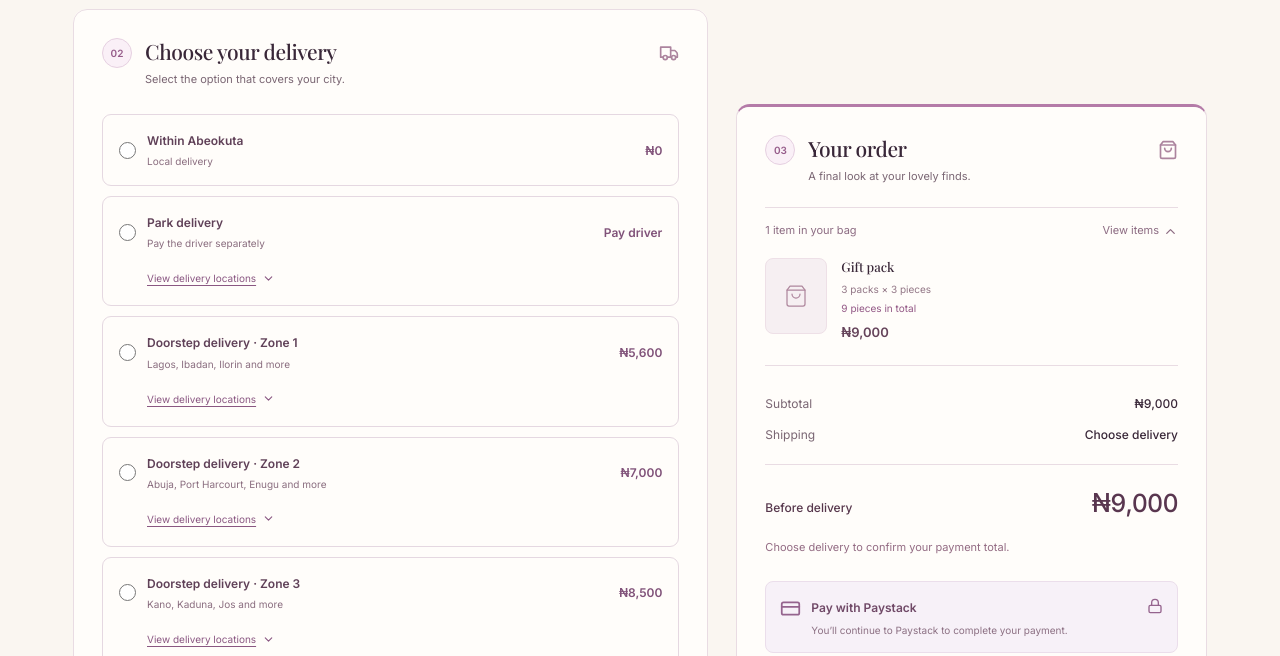
gift price is disclosed before opting in, added once and removed when deselected
(page scrolled)
Click the radio button labelled "Doorstep delivery · Zone 1".
click(128, 353)  # box [119,344,136,361]
(page scrolled)
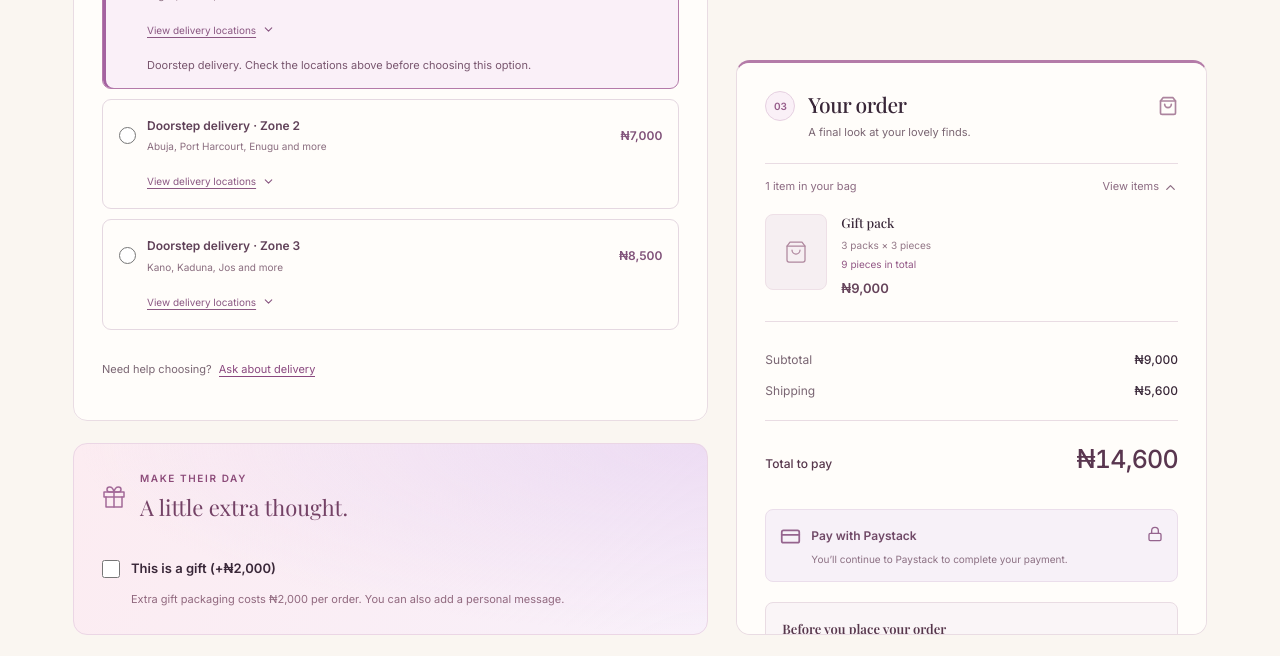
Click the checkbox labelled "This is a gift (+₦2,000)".
click(111, 569)  # box [102,560,120,578]
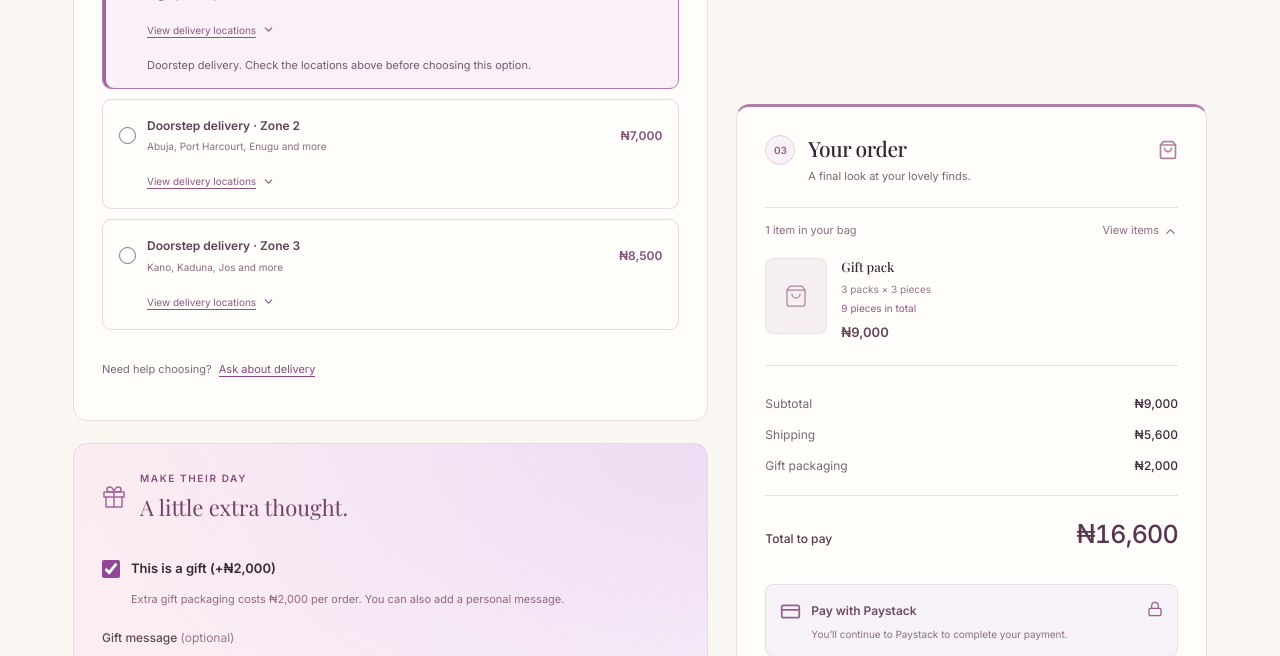
Click the checkbox labelled "This is a gift (+₦2,000)".
click(111, 569)  # box [102,560,120,578]
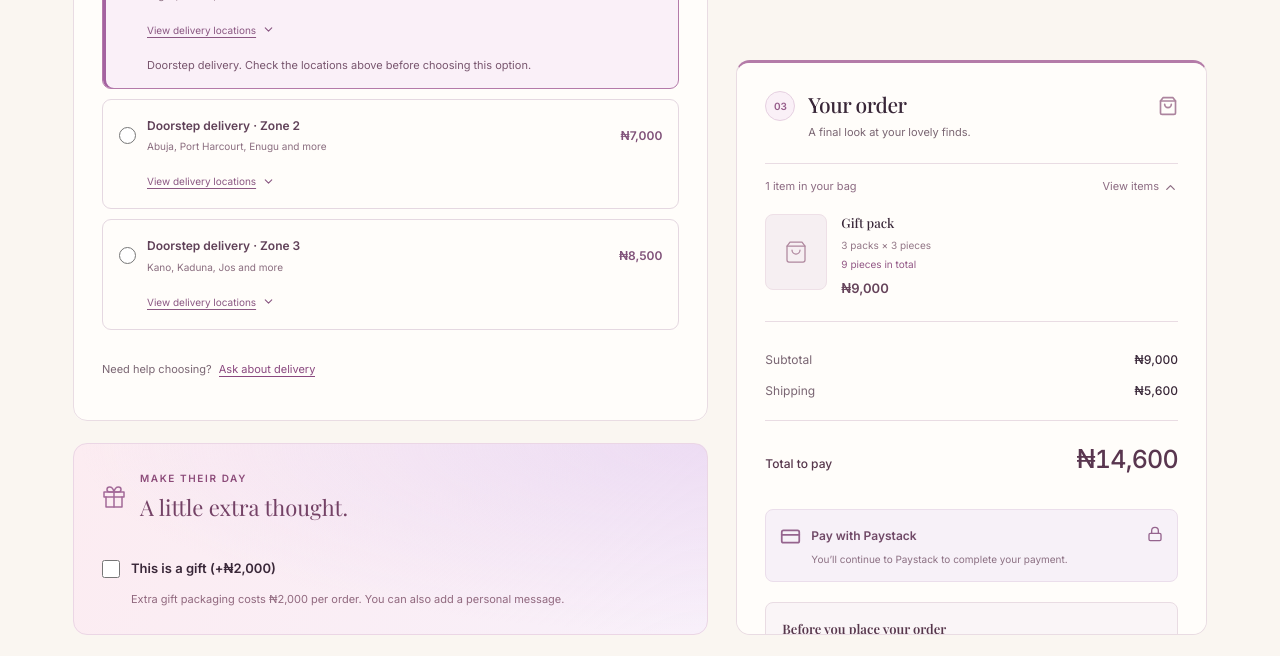
Click the checkbox labelled "This is a gift (+₦2,000)".
click(111, 569)  # box [102,560,120,578]
(page scrolled)
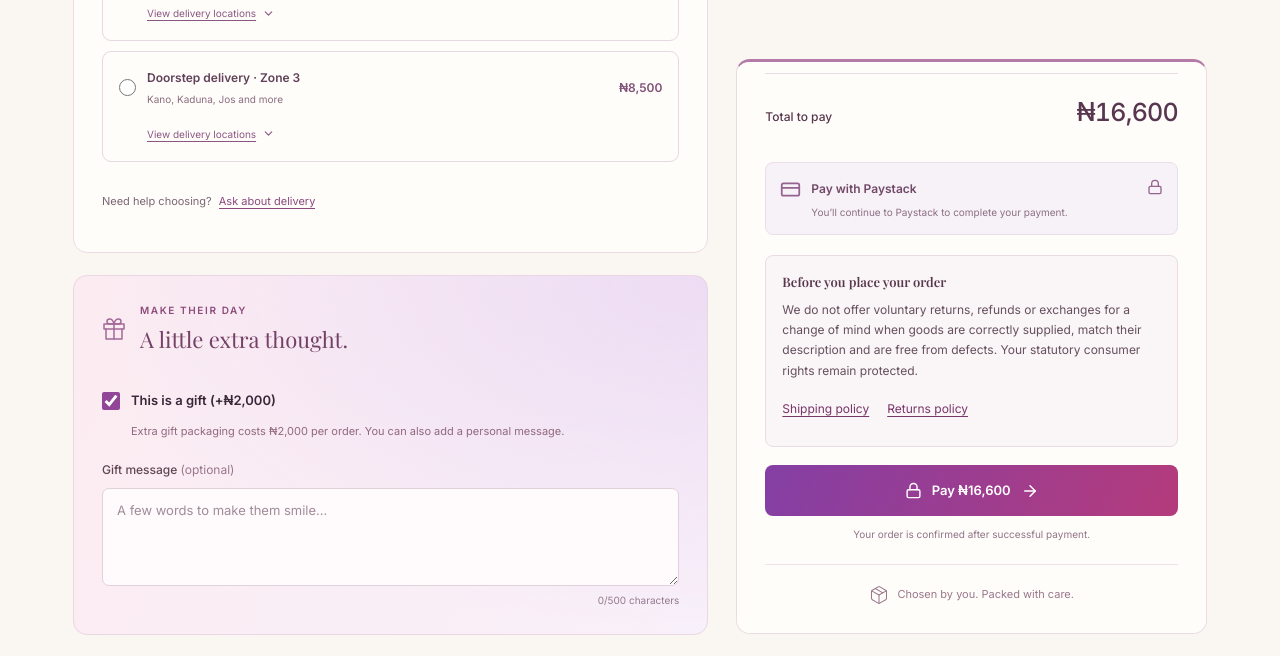
Result: the button "Pay ₦16,600" is enabled at [765,465,1178,516]
